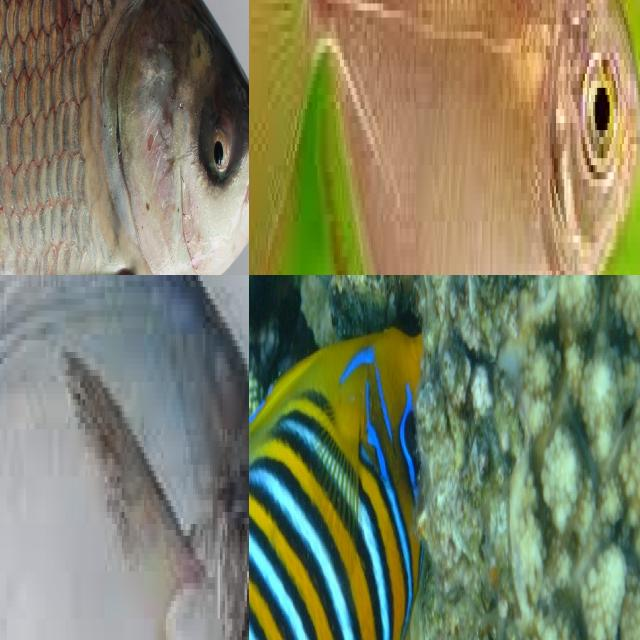fish: (0, 275, 249, 640), (0, 0, 249, 275), (318, 0, 579, 235), (249, 292, 425, 640)
